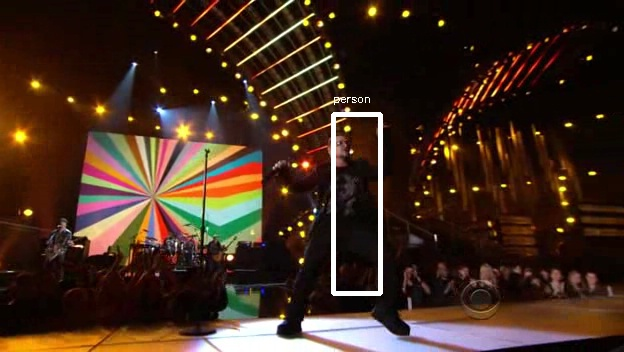person: (310, 131, 377, 252), (307, 131, 374, 252), (313, 131, 380, 252), (310, 128, 377, 249), (310, 134, 377, 255)
target_negative: (3, 153, 233, 294), (382, 103, 458, 200), (557, 101, 591, 244), (502, 14, 532, 142), (499, 168, 514, 251)
